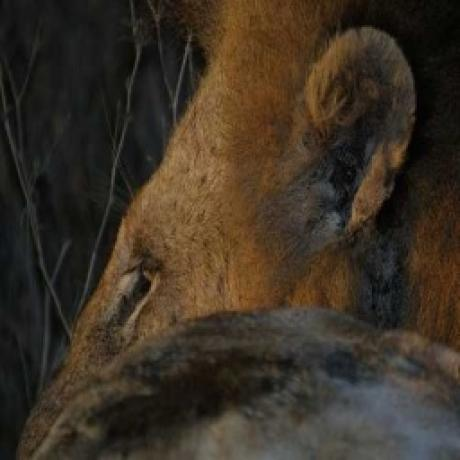Lion: (12, 0, 460, 460)
